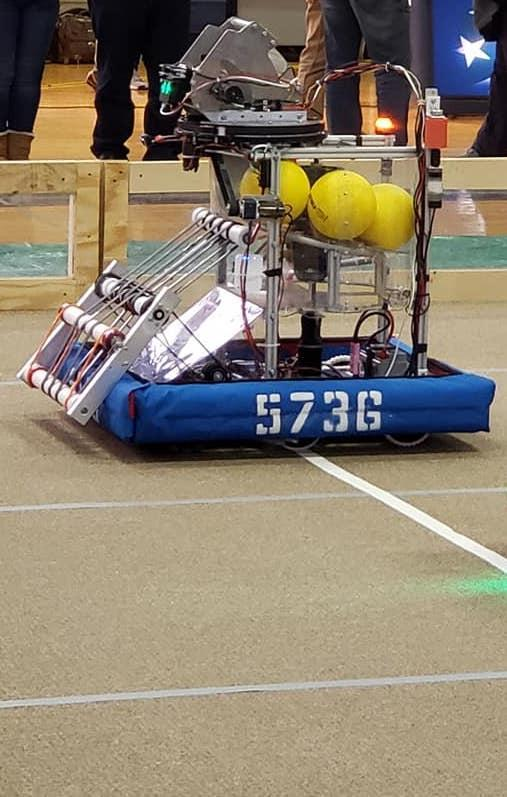robot: (18, 17, 498, 456)
